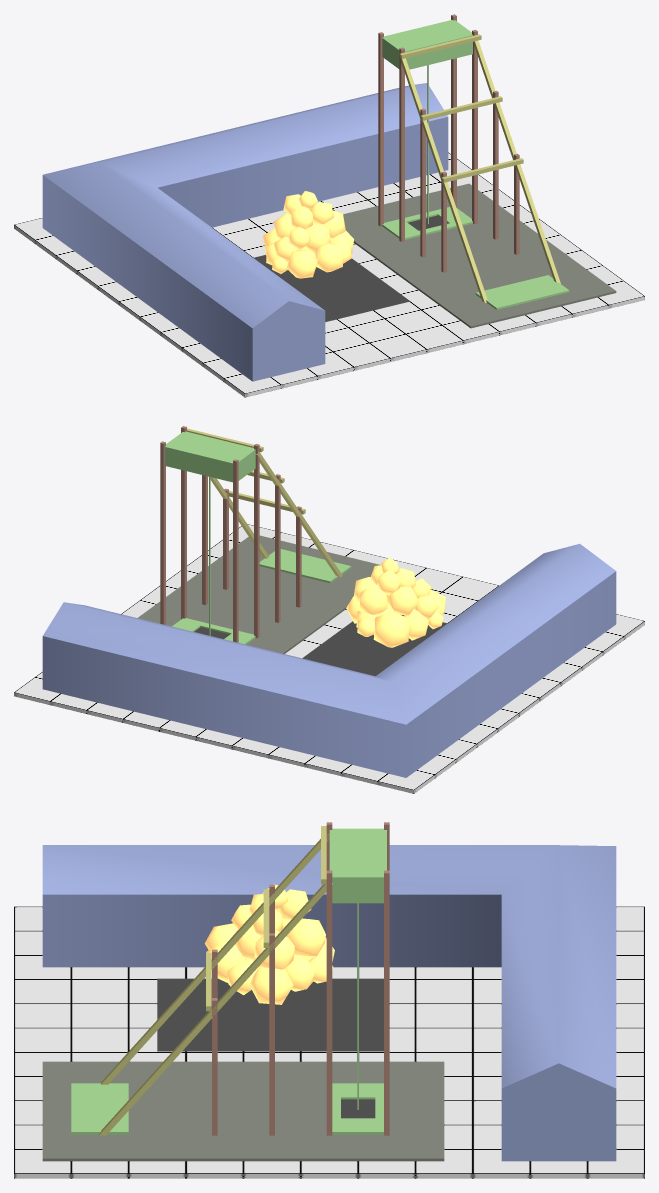
File: XG_Mine-copper.glb
3 views of the same model, one above another, from view 1: azimuth 30°, elevation 25°; view 2: azimuth 150°, elevation 25°; view 3: azimuth 270°, elevation 25° (orthographic). The views are drawn at different scales.
Parts seen in each view (by area): view 1: building_9m_3m_044, ground_11_x_017, Box545, Plane026, Box540, Box544, Box542, Box543, Box536, Box538, Box541, Box539 (+6 smaller); view 2: building_9m_3m_044, ground_11_x_017, Box545, Box540, Plane026, Box544, Box538, Box536, Box537, GeoSphere206, Box539, Box542 (+7 smaller); view 3: building_9m_3m_044, ground_11_x_017, Box545, Plane026, Box540, Box544, Box543, Box542, Box541, Box539, Box537, Box547 (+9 smaller).
Boxes of the visible parts, x1,y1,x2,y2 form: building_9m_3m_044: (42,83,448,381); ground_11_x_017: (14,152,644,397); Box545: (343,183,616,328); Plane026: (253,255,410,321); Box540: (382,20,472,69); Box544: (475,275,569,309); Box542: (401,58,487,302); Box543: (473,40,560,283); Box536: (378,32,383,226); Box538: (399,47,404,241); Box541: (382,207,472,239); Box539: (472,29,477,224); building_9m_3m_044: (42,543,616,777); ground_11_x_017: (14,524,644,793); Box545: (137,535,380,653); Box540: (165,431,255,482); Plane026: (302,615,447,676); Box544: (259,549,351,583); Box538: (254,444,259,638); Box536: (233,459,238,642); Box537: (160,441,165,624); GeoSphere206: (373,611,409,647); Box539: (181,426,186,619); Box542: (256,451,342,577); building_9m_3m_044: (42,845,616,1161); ground_11_x_017: (14,906,644,1178); Box545: (42,1061,444,1161); Plane026: (157,978,383,1051); Box540: (329,828,386,903); Box544: (71,1083,128,1134); Box543: (98,883,332,1135); Box542: (100,833,329,1084); Box541: (332,1083,383,1134); Box539: (326,870,332,1135); Box537: (384,870,389,1135); Box547: (269,933,274,1135).
Size of the model in its own units: 11 by 5.2 by 11.
8 materials, 1 textured.
